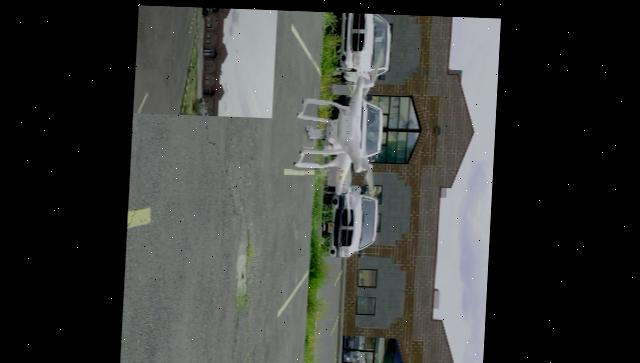drone: (293, 61, 384, 202)
